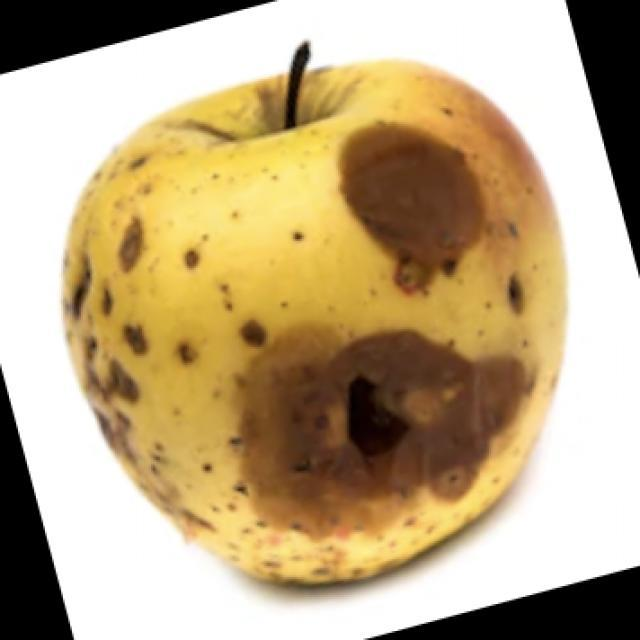Rotten: (47, 60, 560, 583)
